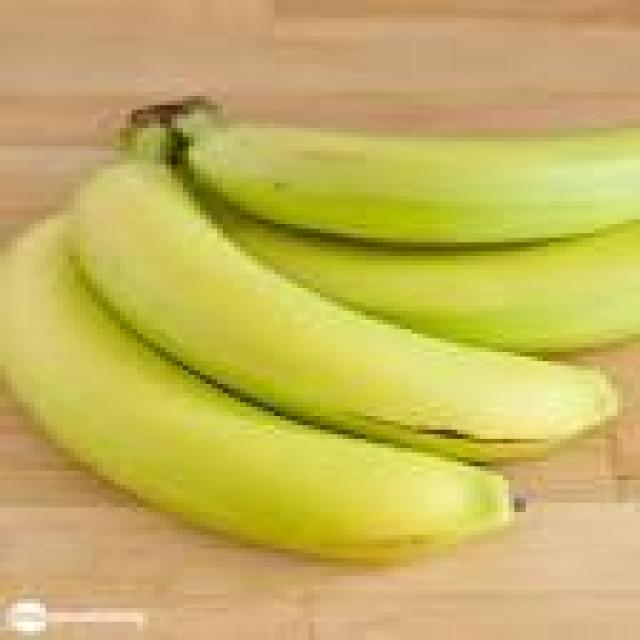banana: (0, 220, 514, 562), (69, 160, 617, 461), (178, 101, 639, 242), (223, 215, 639, 351)
